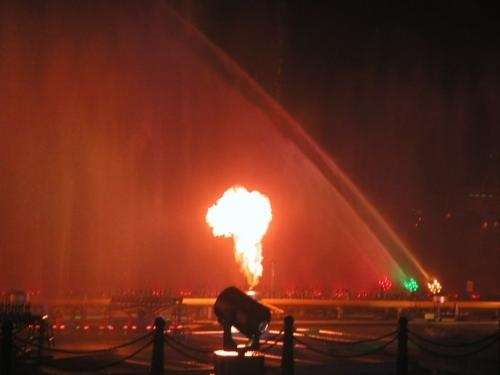fire: (205, 180, 274, 290)
